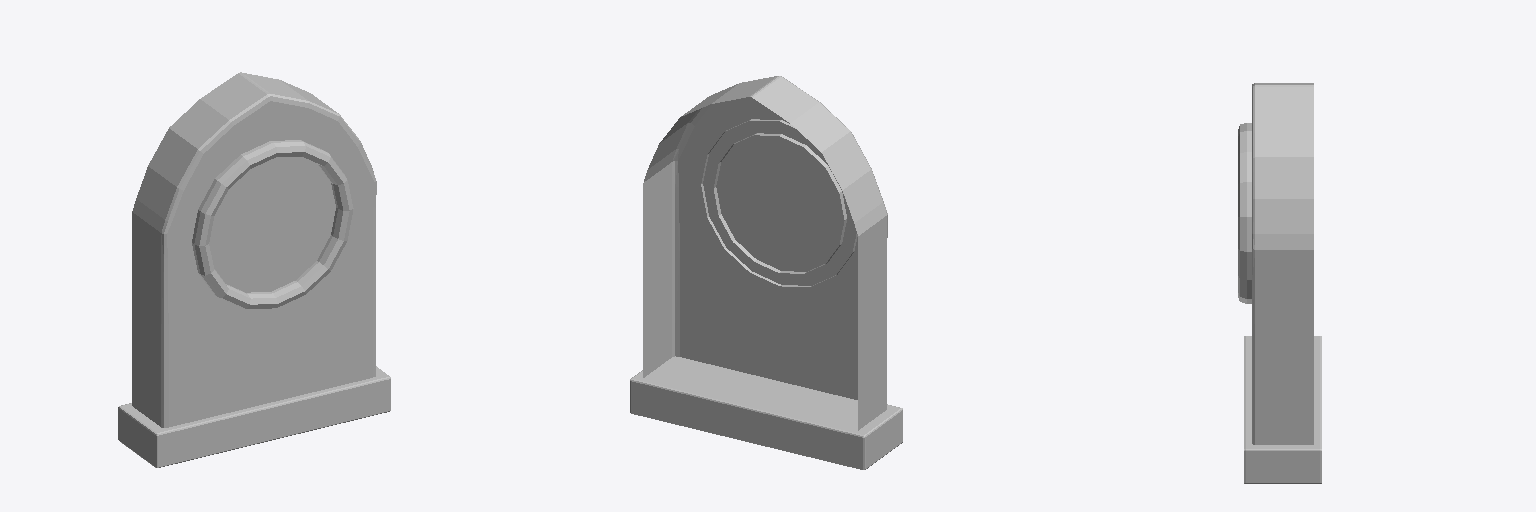
Rendered from clock.obj.
The picture shows the model from 3 angles: view 1: azimuth 30°, elevation 25°; view 2: azimuth 150°, elevation 25°; view 3: azimuth 270°, elevation 25°; orthographic projection.
Parts seen in each view (by area): view 1: Cylinder, Cylinder.001; view 2: Cylinder, Cylinder.001; view 3: Cylinder, Cylinder.001.
Part boxes in pixels (x1,y1,x2,y2): Cylinder: (118, 72, 390, 467); Cylinder.001: (192, 140, 353, 308); Cylinder: (630, 76, 902, 469); Cylinder.001: (701, 119, 857, 286); Cylinder: (1244, 83, 1321, 483); Cylinder.001: (1238, 123, 1251, 303).
Bounding box in the file's own units: 4.39 × 6.09 × 1.36.